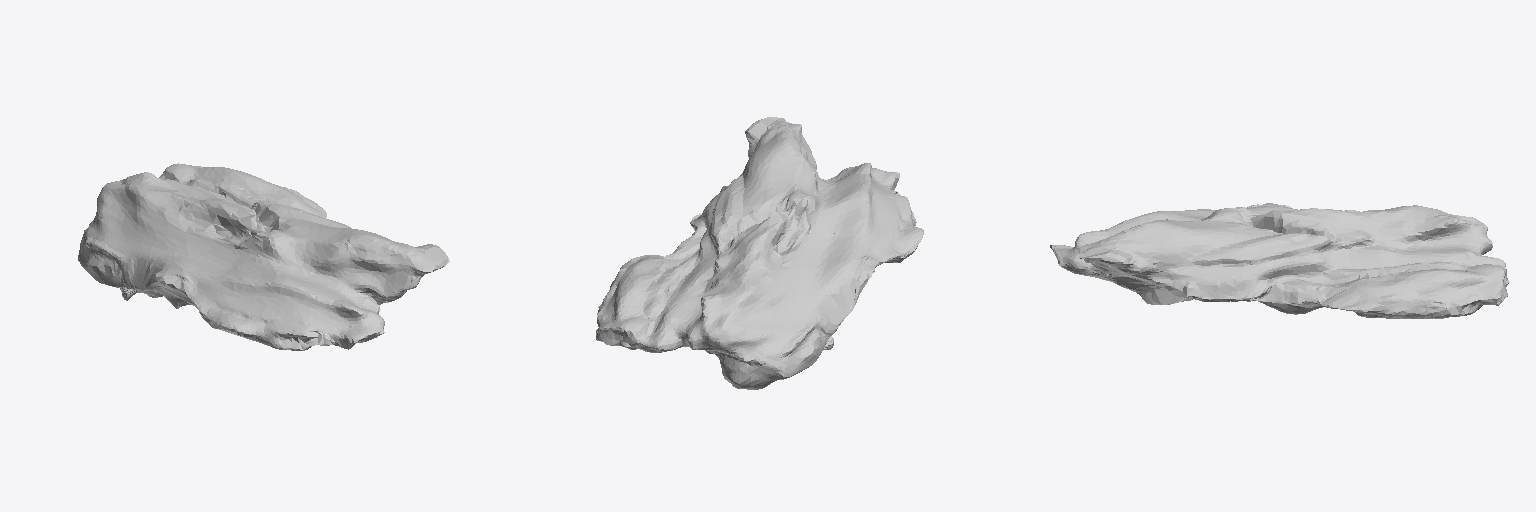
The model's file is cave.obj.
3 views of the same model, side by side, from view 1: azimuth 30°, elevation 25°; view 2: azimuth 150°, elevation 25°; view 3: azimuth 270°, elevation 25° (orthographic).
Parts seen in each view (by area): view 1: CaveWalls.001_Sphere.000; view 2: CaveWalls.001_Sphere.000; view 3: CaveWalls.001_Sphere.000.
Part boxes in pixels (left/top/right/bottom): CaveWalls.001_Sphere.000: left=78, top=163, right=449, bottom=350; CaveWalls.001_Sphere.000: left=596, top=117, right=923, bottom=389; CaveWalls.001_Sphere.000: left=1050, top=203, right=1509, bottom=318.
Bounding box in the file's own units: 13.33 × 6.85 × 25.57.